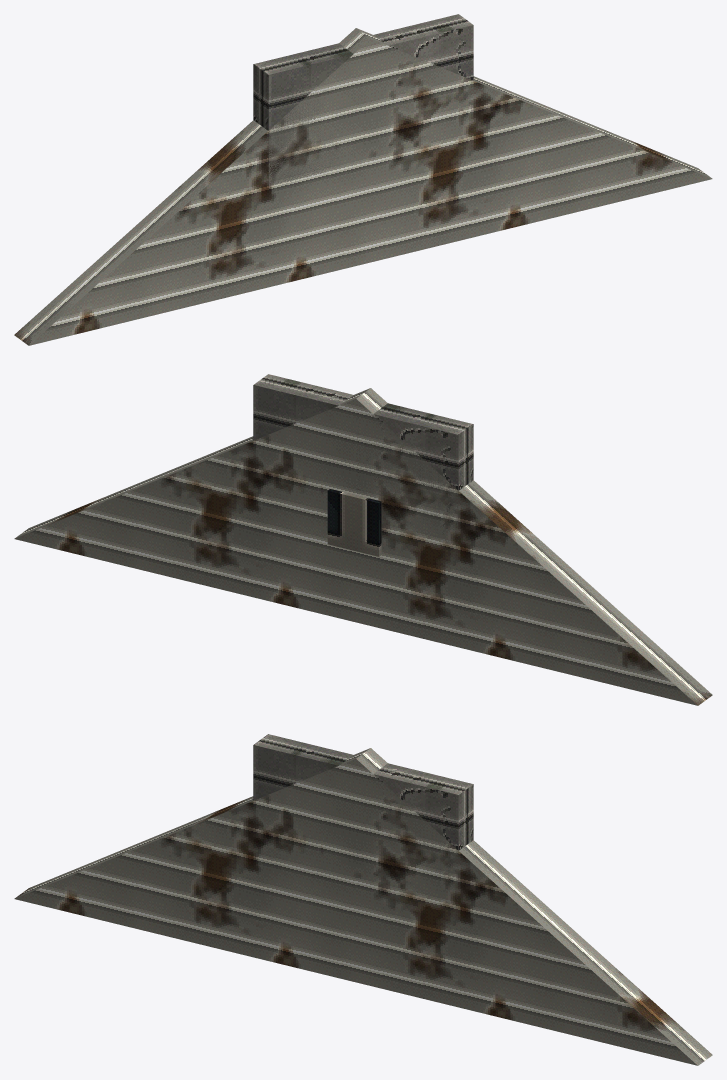
The model's file is gable_siding_white_8.glb.
3 renders of one model, top to bottom at view 1: azimuth 30°, elevation 25°; view 2: azimuth 150°, elevation 25°; view 3: azimuth 330°, elevation 25°, orthographic.
Visible parts, largest first — view 1: gable_siding_white_8_mesh, gable_siding_white_8_col-colonly.001; view 2: gable_siding_white_8_mesh, gable_siding_white_8_col-colonly.001; view 3: gable_siding_white_8_mesh, gable_siding_white_8_col-colonly.001.
Part boxes in pixels (left/top/right/bottom): gable_siding_white_8_mesh: left=14, top=28, right=712, bottom=345; gable_siding_white_8_col-colonly.001: left=253, top=14, right=473, bottom=186; gable_siding_white_8_mesh: left=14, top=388, right=712, bottom=705; gable_siding_white_8_col-colonly.001: left=253, top=374, right=473, bottom=544; gable_siding_white_8_mesh: left=14, top=748, right=712, bottom=1065; gable_siding_white_8_col-colonly.001: left=253, top=734, right=473, bottom=900.
Size of what is drawn, in the model's own units: 8 by 2.5 by 0.355.
3 materials, 3 textured.
